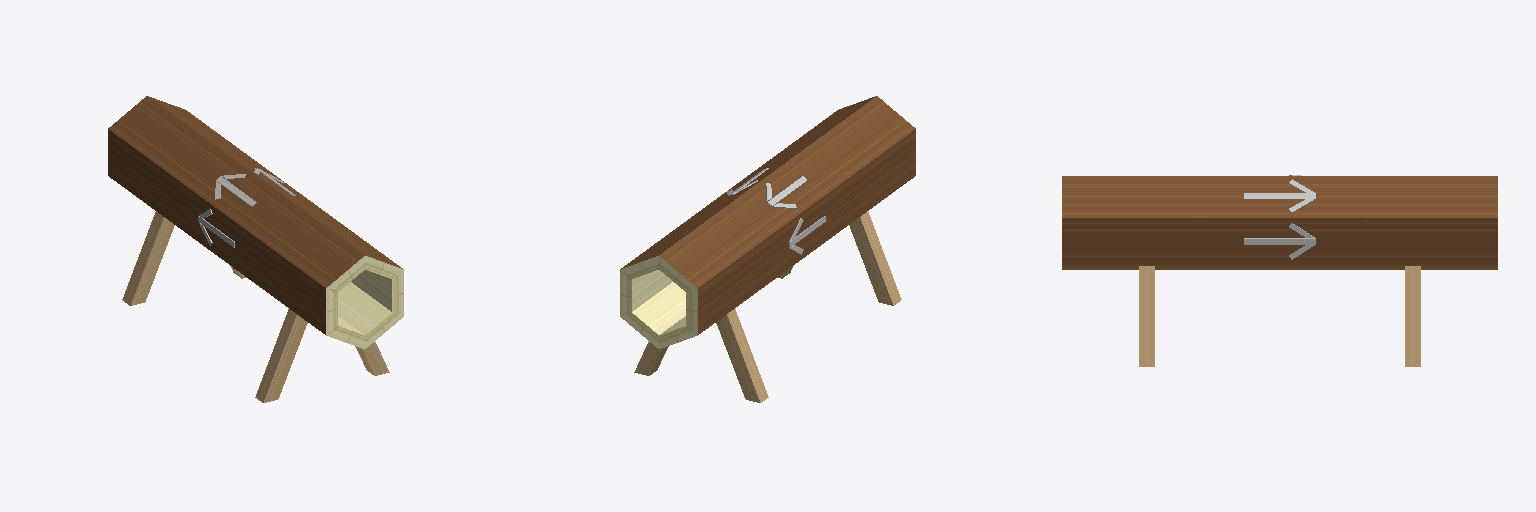
The picture shows the model from 3 angles: view 1: azimuth 30°, elevation 25°; view 2: azimuth 150°, elevation 25°; view 3: azimuth 270°, elevation 25°; orthographic projection.
Parts seen in each view (by area): view 1: Cylinder, Cube_Cube.001, Cube.002; view 2: Cylinder, Cube_Cube.001, Cube.002; view 3: Cylinder, Cube_Cube.001, Cube.001_Cube.002, Cube.002.
Part boxes in pixels (x1,y1,x2,y2): Cylinder: (108, 96, 403, 348); Cube_Cube.001: (122, 211, 389, 402); Cube.002: (215, 168, 295, 206); Cylinder: (620, 96, 915, 348); Cube_Cube.001: (634, 211, 901, 402); Cube.002: (727, 168, 807, 208); Cylinder: (1062, 176, 1497, 269); Cube_Cube.001: (1139, 266, 1420, 366); Cube.001_Cube.002: (1244, 223, 1315, 259); Cube.002: (1244, 175, 1315, 212).
Size of the model in its own units: 1.13 by 1.37 by 3.37.
Materials: 5 (4 with a texture image).